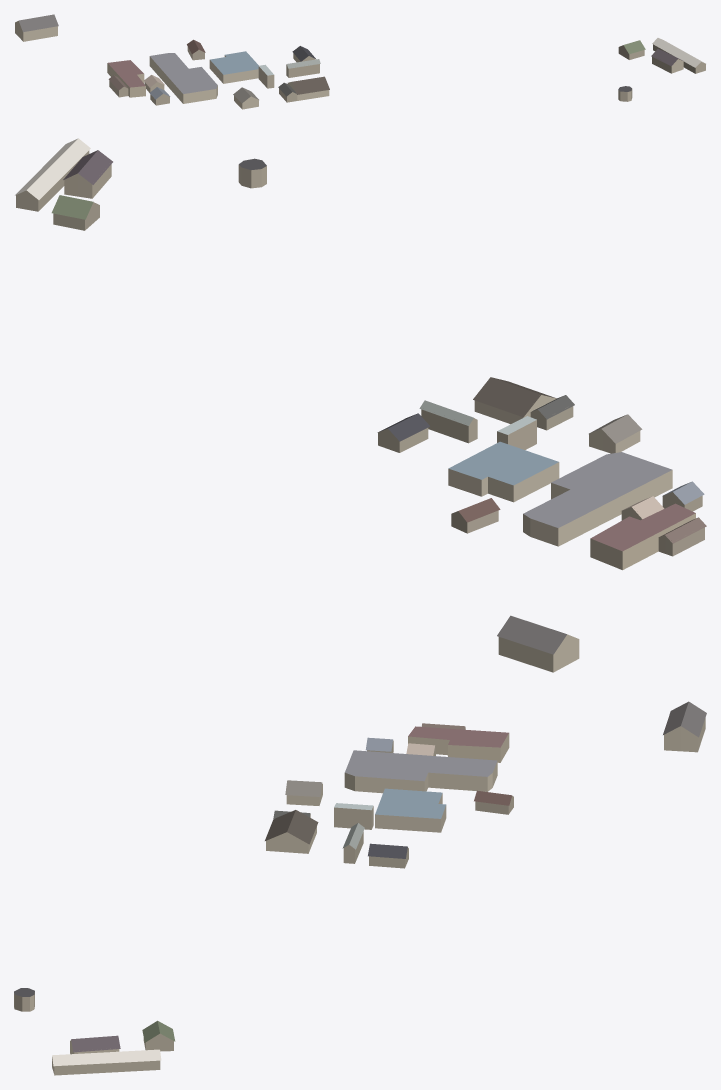
3 views of the same model, one above another, from view 1: azimuth 30°, elevation 25°; view 2: azimuth 150°, elevation 25°; view 3: azimuth 270°, elevation 25° (orthographic). The views are drawn at different scales.
Parts seen in each view (by area): view 1: tuile; view 2: tuile; view 3: tuile.
Part boxes in pixels (box(x1,y1,x2,y2)): tuile: box(15, 14, 705, 109); tuile: box(15, 138, 706, 672); tuile: box(14, 701, 706, 1075).
Size of the model in its own units: 256 by 8.68 by 211.
